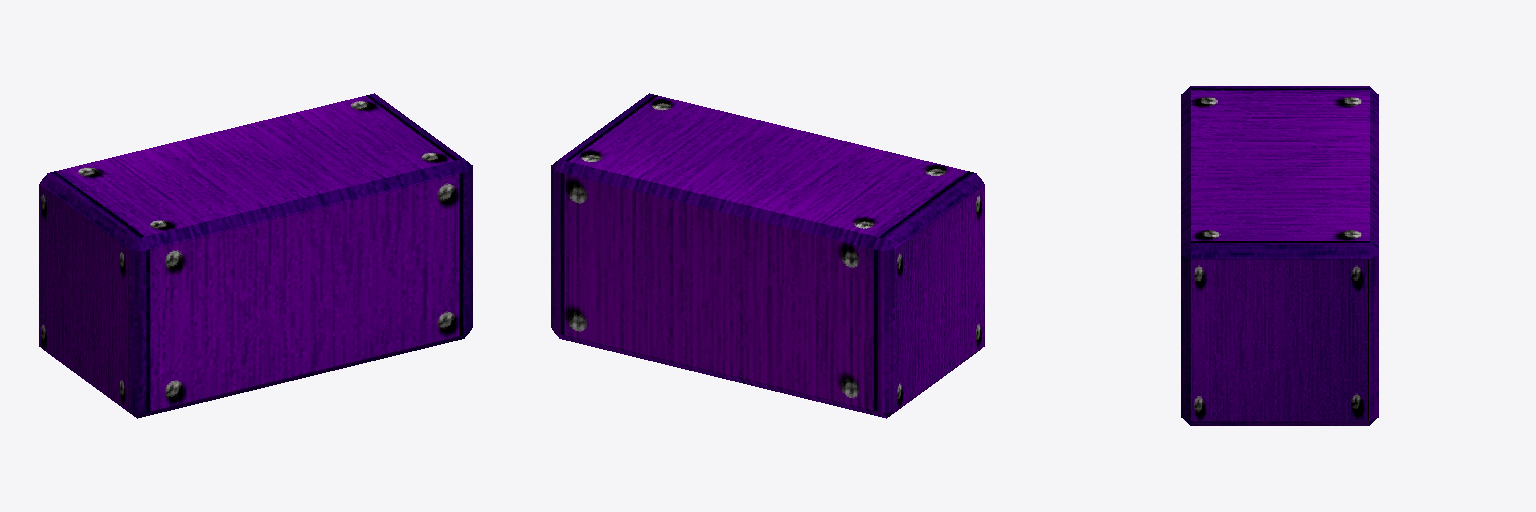
3 views of the same model, side by side, from view 1: azimuth 30°, elevation 25°; view 2: azimuth 150°, elevation 25°; view 3: azimuth 270°, elevation 25° (orthographic).
Parts seen in each view (by area): view 1: default; view 2: default; view 3: default.
Boxes of the visible parts, x1=… form: default: x1=39, y1=93, x2=472, y2=418; default: x1=551, y1=93, x2=984, y2=418; default: x1=1181, y1=86, x2=1378, y2=425.
Bounding box in the file's own units: 2 × 1 × 1.
1 materials, 1 textured.